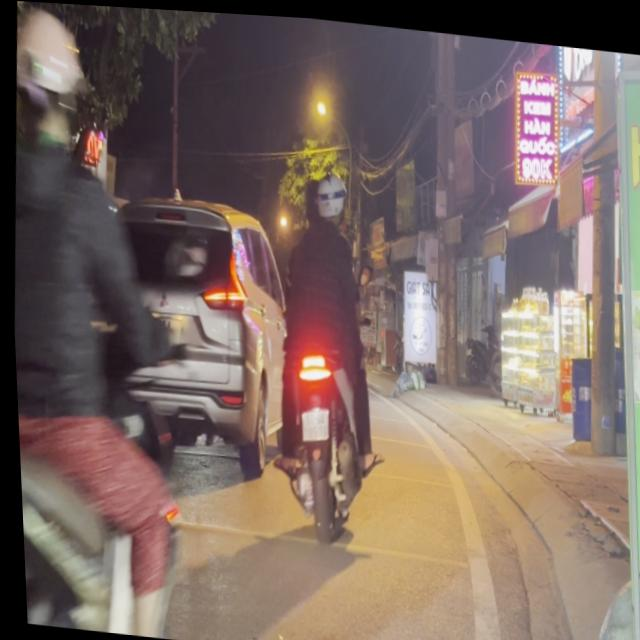helmet: (8, 0, 94, 156), (310, 165, 347, 224)
licenseplate: (0, 0, 216, 640), (253, 155, 392, 542)
nohelmet: (295, 402, 325, 439)
